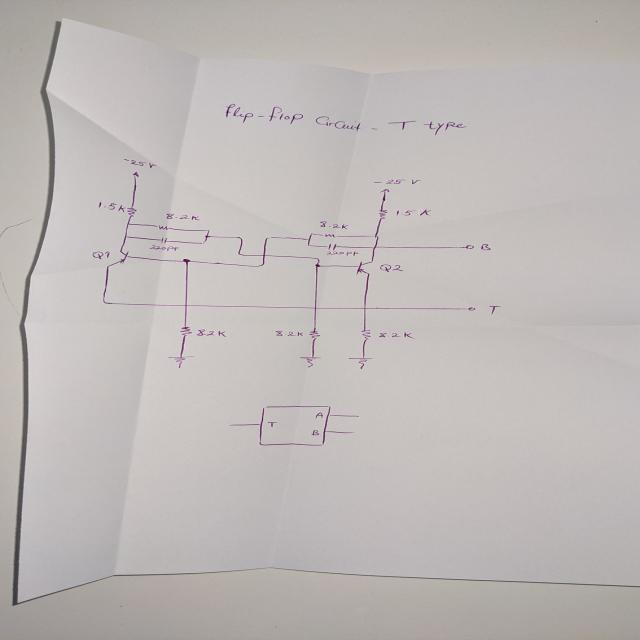capacitor: (325, 243, 338, 251), (158, 236, 169, 245)
crossover: (260, 253, 268, 257), (361, 306, 368, 310), (182, 303, 189, 307), (371, 245, 378, 249), (312, 306, 318, 309)
ground: (166, 354, 195, 369), (346, 356, 374, 370), (298, 356, 322, 368)
junction: (182, 258, 191, 263), (264, 236, 273, 240), (256, 263, 264, 267), (236, 252, 244, 256), (102, 300, 110, 304), (199, 240, 207, 244), (314, 263, 320, 268), (371, 235, 380, 238), (237, 236, 243, 240), (204, 235, 210, 238), (122, 235, 128, 238), (315, 257, 320, 260), (309, 232, 314, 235), (126, 222, 130, 225), (306, 238, 312, 240), (206, 229, 211, 231), (306, 244, 310, 246)
resistor: (359, 328, 372, 341), (376, 208, 388, 220), (179, 326, 192, 337), (308, 330, 320, 340), (125, 207, 137, 217), (321, 232, 338, 238), (154, 225, 171, 230)
source: (378, 188, 392, 194), (131, 171, 141, 177)
terminal: (464, 244, 474, 250), (467, 306, 476, 310), (226, 423, 232, 427), (356, 414, 361, 418), (351, 431, 356, 434)
text: (223, 102, 468, 136), (122, 158, 158, 170), (96, 200, 126, 213), (372, 178, 423, 185), (164, 212, 201, 221), (195, 328, 227, 338), (318, 220, 349, 230), (394, 208, 432, 216), (377, 332, 416, 339), (274, 329, 306, 337), (324, 250, 360, 257), (148, 244, 179, 252), (90, 250, 111, 260), (378, 264, 404, 272), (486, 304, 502, 315), (479, 242, 492, 252), (266, 421, 278, 428), (314, 411, 323, 419), (310, 429, 320, 436)
transistor: (105, 250, 129, 267), (354, 260, 373, 276)
